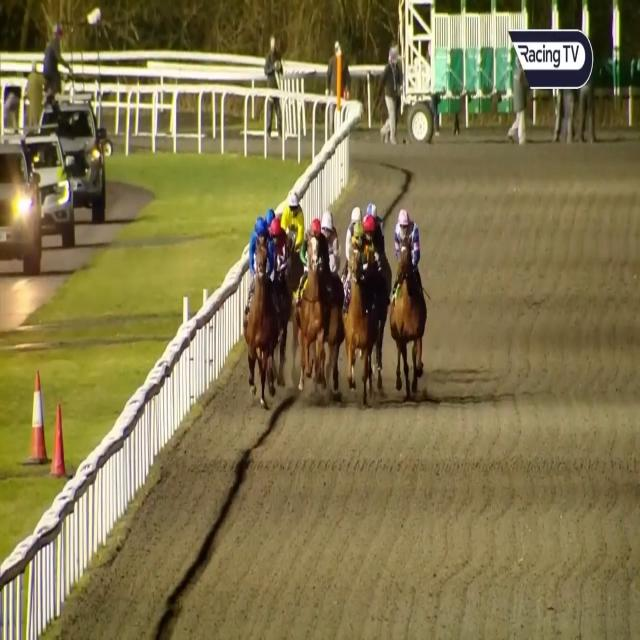horses-racing: (342, 216, 380, 410), (389, 205, 426, 398), (304, 216, 338, 388), (250, 212, 278, 384), (279, 190, 308, 266), (318, 211, 339, 272), (272, 214, 292, 278), (261, 201, 276, 242), (370, 211, 379, 270), (366, 200, 380, 237), (346, 204, 359, 240)
